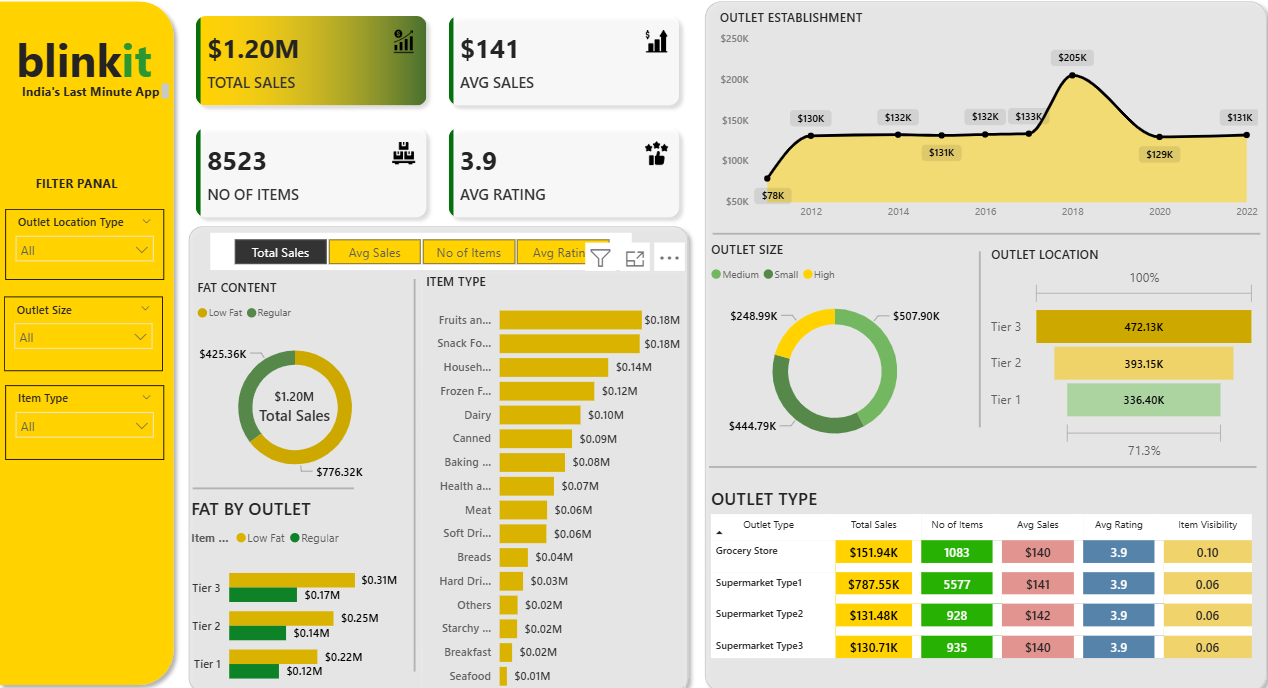

Layout of this report page (visuals, bound fields, positions):
{"tool":"powerbi","page":{"name":"Page 1","canvas":[1400,800],"ordinal":0},"visuals":[{"type":"shape","box":[11.4,4.3,205.7,751.4],"z":0},{"type":"textbox","box":[34.5,37.5,159.1,75],"z":1000},{"type":"textbox","box":[27.1,194.3,155.7,31.4],"z":2000},{"type":"cardVisual","fields":{"Data":["BlinkIT Grocery Data.Total Sales","BlinkIT Grocery Data.Avg Sales","BlinkIT Grocery Data.No of Items","BlinkIT Grocery Data.Avg Rating"]},"box":[215.8,12.1,553.6,250.7],"z":3000},{"type":"shape","box":[215.8,245.3,553.6,517.4],"z":4000},{"type":"donutChart","title":"FAT CONTENT","fields":{"Y":["BlinkIT Grocery Data.Total Sales"],"Category":["BlinkIT Grocery Data.Item Fat Content"]},"box":[229.2,311,219.8,230.6],"z":5000},{"type":"slicer","fields":{"Values":["Metrics.Metrics"]},"box":[248,261.4,451.7,40.2],"z":6000},{"type":"cardVisual","fields":{"Data":["BlinkIT Grocery Data.Total Sales"]},"box":[274.3,410,127.1,75.7],"z":7000},{"type":"clusteredBarChart","title":"FAT BY OUTLET","fields":{"Y":["BlinkIT Grocery Data.Total Sales"],"Category":["BlinkIT Grocery Data.Outlet Location Type"],"Series":["BlinkIT Grocery Data.Item Fat Content"]},"box":[222.9,544.3,231.4,218.6],"z":8000},{"type":"shape","box":[229.2,529.5,172.9,12.1],"z":9000},{"type":"shape","box":[459.8,311,14.7,420.9],"z":10000},{"type":"barChart","title":"ITEM TYPE","fields":{"Y":["BlinkIT Grocery Data.Total Sales"],"Category":["BlinkIT Grocery Data.Item Type"]},"box":[474.5,304.3,282.8,458.4],"z":11000},{"type":"shape","box":[769.4,4,620.6,758.7],"z":12000},{"type":"lineChart","title":"OUTLET ESTABLISHMENT","fields":{"Y":["BlinkIT Grocery Data.Total Sales"],"Category":["BlinkIT Grocery Data.Outlet Establishment Year"]},"box":[789.5,21.4,587.1,234.6],"z":13000},{"type":"shape","box":[787.1,255.7,587.1,12.9],"z":14000},{"type":"donutChart","title":"OUTLET SIZE","fields":{"Y":["BlinkIT Grocery Data.Total Sales"],"Category":["BlinkIT Grocery Data.Outlet Size"]},"box":[780,270,275.7,235.7],"z":15000},{"type":"shape","box":[1070,281.4,7.1,188.6],"z":16000},{"type":"funnel","title":" OUTLET LOCATION","fields":{"Y":["Sum(BlinkIT Grocery Data.Sales)"],"Category":["BlinkIT Grocery Data.Outlet Location Type"]},"box":[1080,274.3,294.3,235.7],"z":17000},{"type":"shape","box":[782.9,504.3,587.1,17.1],"z":18000},{"type":"pivotTable","title":"OUTLET TYPE","fields":{"Rows":["BlinkIT Grocery Data.Outlet Type"],"Values":["BlinkIT Grocery Data.Total Sales","BlinkIT Grocery Data.No of Items","BlinkIT Grocery Data.Avg Sales","BlinkIT Grocery Data.Avg Rating","Avg(BlinkIT Grocery Data.Item Visibility)"]},"box":[780,532.9,594.3,195.7],"z":19000},{"type":"slicer","fields":{"Values":["BlinkIT Grocery Data.Outlet Location Type"]},"box":[28.6,235.7,170,75.7],"z":20000},{"type":"slicer","fields":{"Values":["BlinkIT Grocery Data.Outlet Size"]},"box":[27.1,330,170,80],"z":21000},{"type":"slicer","fields":{"Values":["BlinkIT Grocery Data.Item Type"]},"box":[28.6,424.3,170,80],"z":22000},{"type":"textbox","box":[38.5,97.1,169.6,25.5],"z":23000}]}

Visuals, with their boxes on the page's 1400x800 design canvas (x1, y1, x2, y2). These are canvas units, not pixel positions in the 1268x688 screenshot, which may show the page scaled, cropped or inside an application window:
shape: box=[11, 4, 217, 756]
textbox: box=[34, 38, 194, 112]
textbox: box=[27, 194, 183, 226]
cardVisual - BlinkIT Grocery Data.Total Sales x BlinkIT Grocery Data.Avg Sales: box=[216, 12, 769, 263]
shape: box=[216, 245, 769, 763]
"FAT CONTENT" donutChart: box=[229, 311, 449, 542]
slicer - Metrics.Metrics: box=[248, 261, 700, 302]
cardVisual - BlinkIT Grocery Data.Total Sales: box=[274, 410, 401, 486]
"FAT BY OUTLET" clusteredBarChart: box=[223, 544, 454, 763]
shape: box=[229, 530, 402, 542]
shape: box=[460, 311, 474, 732]
"ITEM TYPE" barChart: box=[474, 304, 757, 763]
shape: box=[769, 4, 1390, 763]
"OUTLET ESTABLISHMENT" lineChart: box=[790, 21, 1377, 256]
shape: box=[787, 256, 1374, 269]
"OUTLET SIZE" donutChart: box=[780, 270, 1056, 506]
shape: box=[1070, 281, 1077, 470]
" OUTLET LOCATION" funnel: box=[1080, 274, 1374, 510]
shape: box=[783, 504, 1370, 521]
"OUTLET TYPE" pivotTable: box=[780, 533, 1374, 729]
slicer - BlinkIT Grocery Data.Outlet Location Type: box=[29, 236, 199, 311]
slicer - BlinkIT Grocery Data.Outlet Size: box=[27, 330, 197, 410]
slicer - BlinkIT Grocery Data.Item Type: box=[29, 424, 199, 504]
textbox: box=[38, 97, 208, 123]
